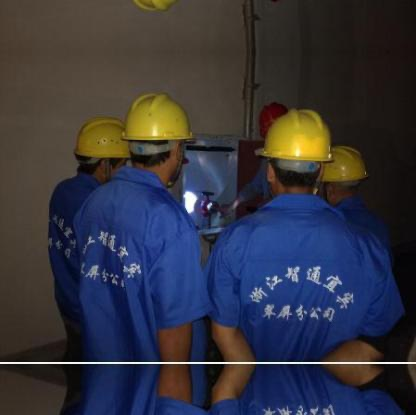Safety Helmet: (119, 90, 196, 198), (251, 107, 336, 200), (70, 113, 133, 185), (313, 140, 374, 211)
